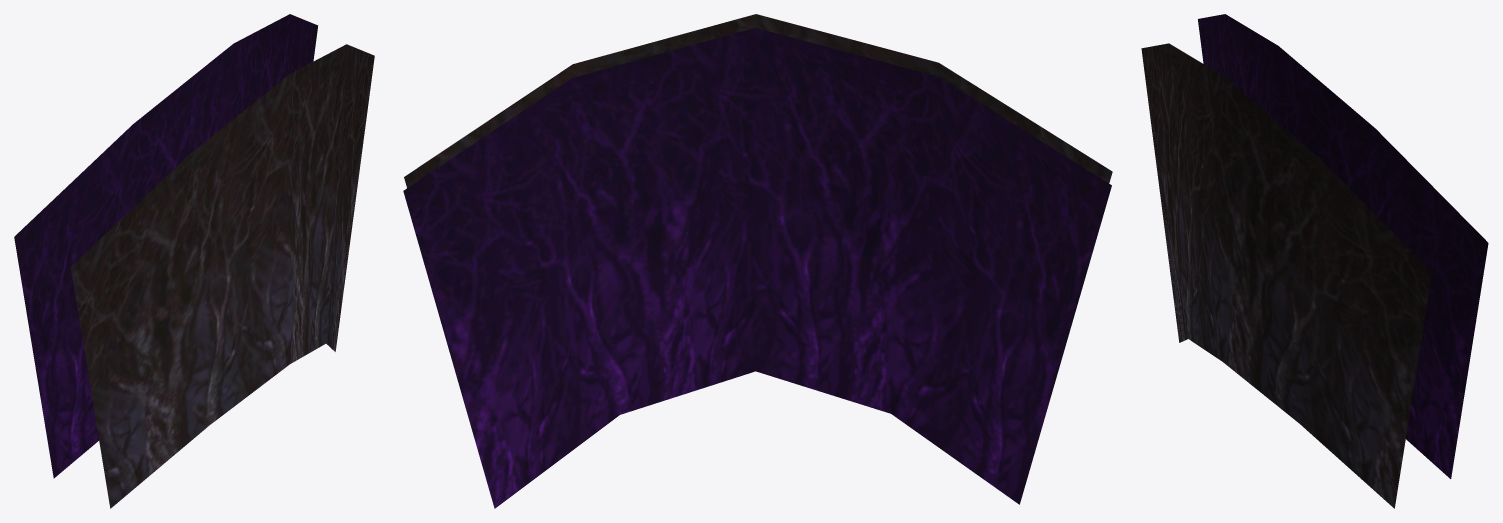
File: EKH_ENTRANCE_PS_EN_TREE_LINE0039386.fbx
The picture shows the model from 3 angles, left to right: view 1: azimuth 30°, elevation 25°; view 2: azimuth 150°, elevation 25°; view 3: azimuth 270°, elevation 25°; orthographic projection. The views are drawn at different scales.
Parts seen in each view (by area): view 1: EKH_ENTRANCE_PS_EN_TREE_LINE0039386; view 2: EKH_ENTRANCE_PS_EN_TREE_LINE0039386; view 3: EKH_ENTRANCE_PS_EN_TREE_LINE0039386.
Boxes of the visible parts, x1,y1,x2,y2 form: EKH_ENTRANCE_PS_EN_TREE_LINE0039386: (14,14,374,508); EKH_ENTRANCE_PS_EN_TREE_LINE0039386: (403,14,1112,508); EKH_ENTRANCE_PS_EN_TREE_LINE0039386: (1141,14,1488,508).
Size of the model in its own units: 272258 by 212232 by 173142.
2 materials, 2 textured.
